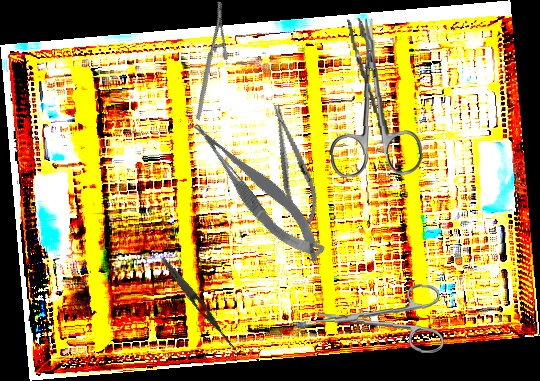Dressing Forceps: (158, 255, 242, 355)
Iris Scissors: (325, 15, 424, 179), (310, 280, 447, 354)
Micro Scissor: (184, 103, 333, 276)
Needle Holder: (160, 0, 257, 121), (261, 100, 326, 230)
Tissue Forceps: (347, 15, 392, 148)
